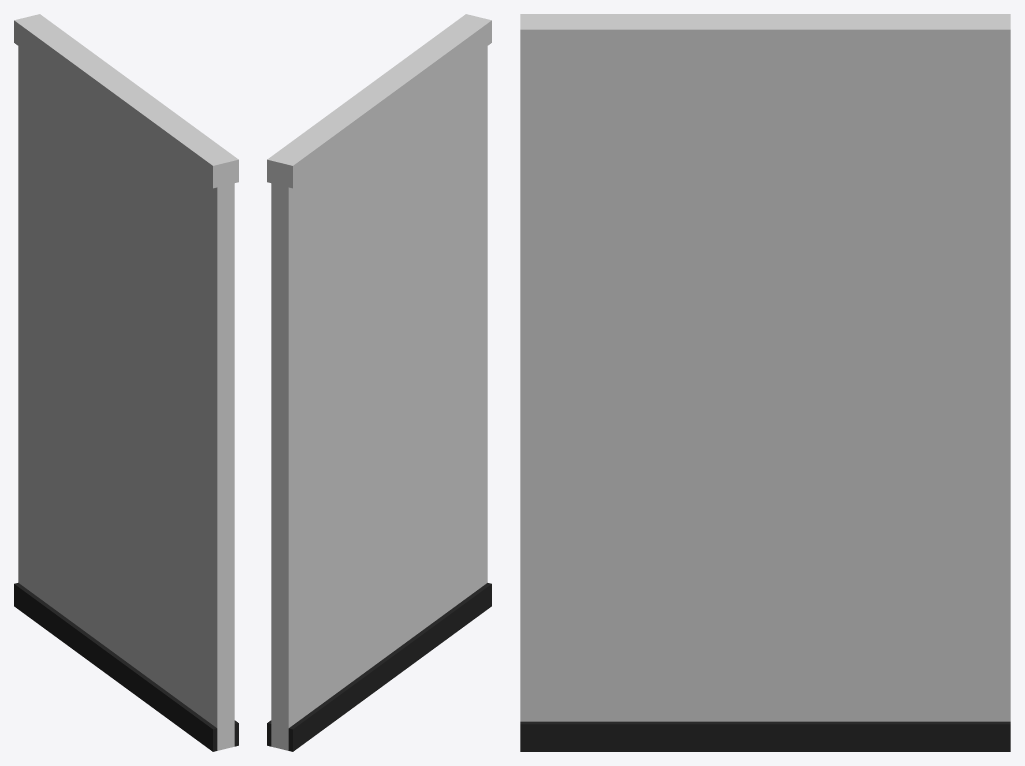
File: wall_01_M.glb
3 renders of one model, left to right at view 1: azimuth 30°, elevation 25°; view 2: azimuth 150°, elevation 25°; view 3: azimuth 270°, elevation 25°, orthographic. The views are drawn at different scales.
Visible parts, largest first — view 1: Untitled; view 2: Untitled; view 3: Untitled.
Part boxes in pixels (x1,y1,x2,y2): Untitled: [14, 14, 238, 751]; Untitled: [267, 14, 491, 751]; Untitled: [520, 14, 1010, 751].
Bounding box in the file's own units: 0.18 × 3.9 × 2.4.
1 material, 1 textured.
